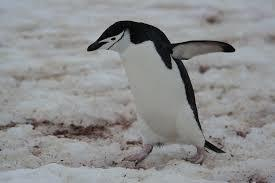chinstrap: (81, 8, 235, 169)
